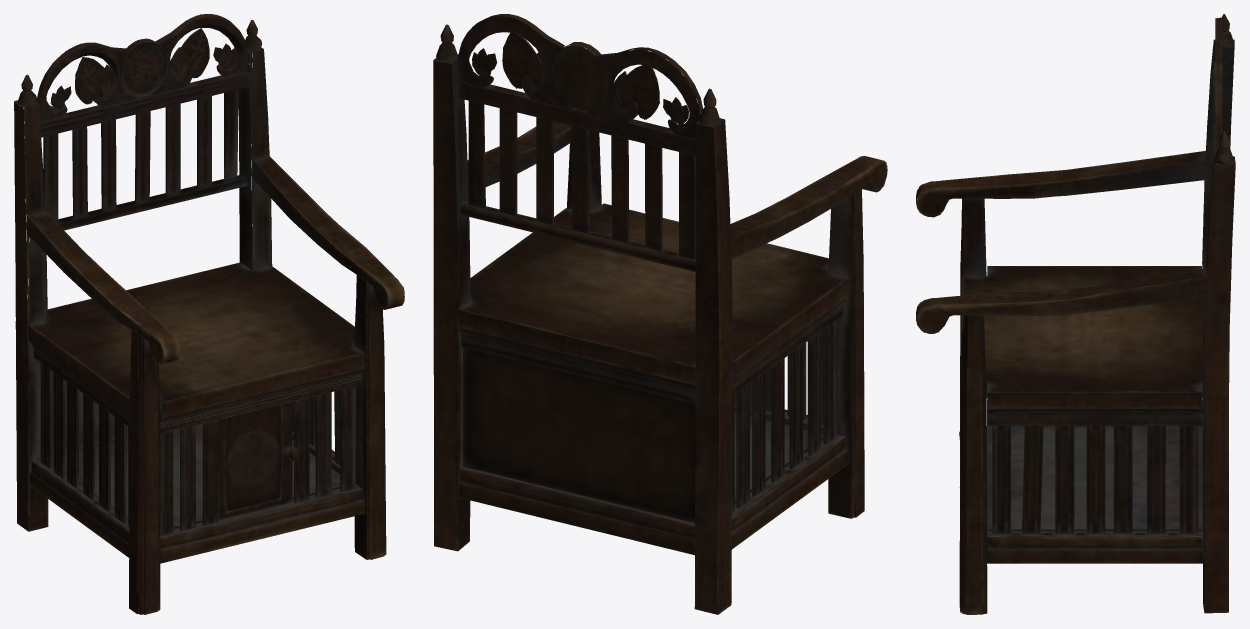
Rendered from cafe_chair.glb.
3 renders of one model, left to right at view 1: azimuth 30°, elevation 25°; view 2: azimuth 150°, elevation 25°; view 3: azimuth 270°, elevation 25°, orthographic. The views are drawn at different scales.
Visible parts, largest first — view 1: gallinera_chair; view 2: gallinera_chair; view 3: gallinera_chair.
Boxes of the visible parts, x1,y1,x2,y2 form: gallinera_chair: [14, 14, 404, 614]; gallinera_chair: [433, 14, 887, 614]; gallinera_chair: [916, 14, 1235, 614].
Size of the model in its own units: 0.5803 by 1.03 by 0.6023.
1 material, 1 textured.
